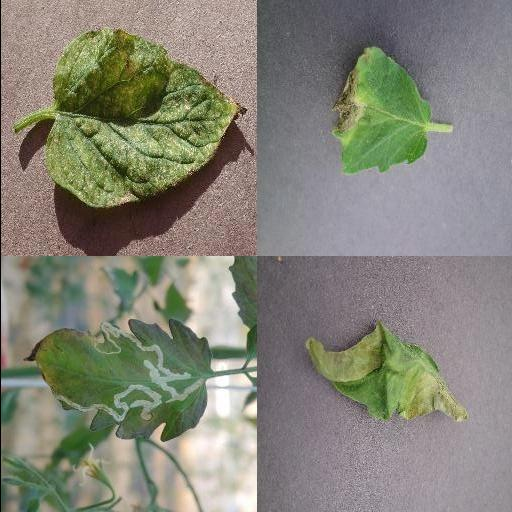Late Blight: (303, 319, 467, 421), (327, 48, 431, 176)
Leaf Miner: (20, 318, 213, 444)
Spider Mites: (45, 28, 241, 207)
